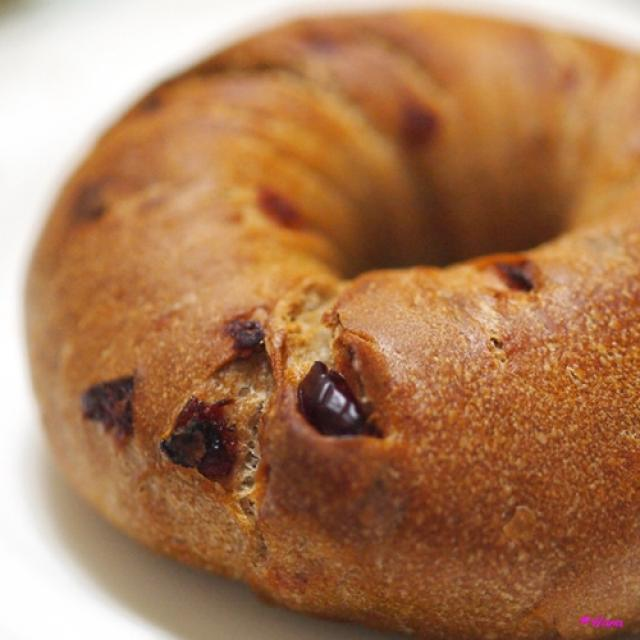面包点心: (36, 18, 630, 608)
